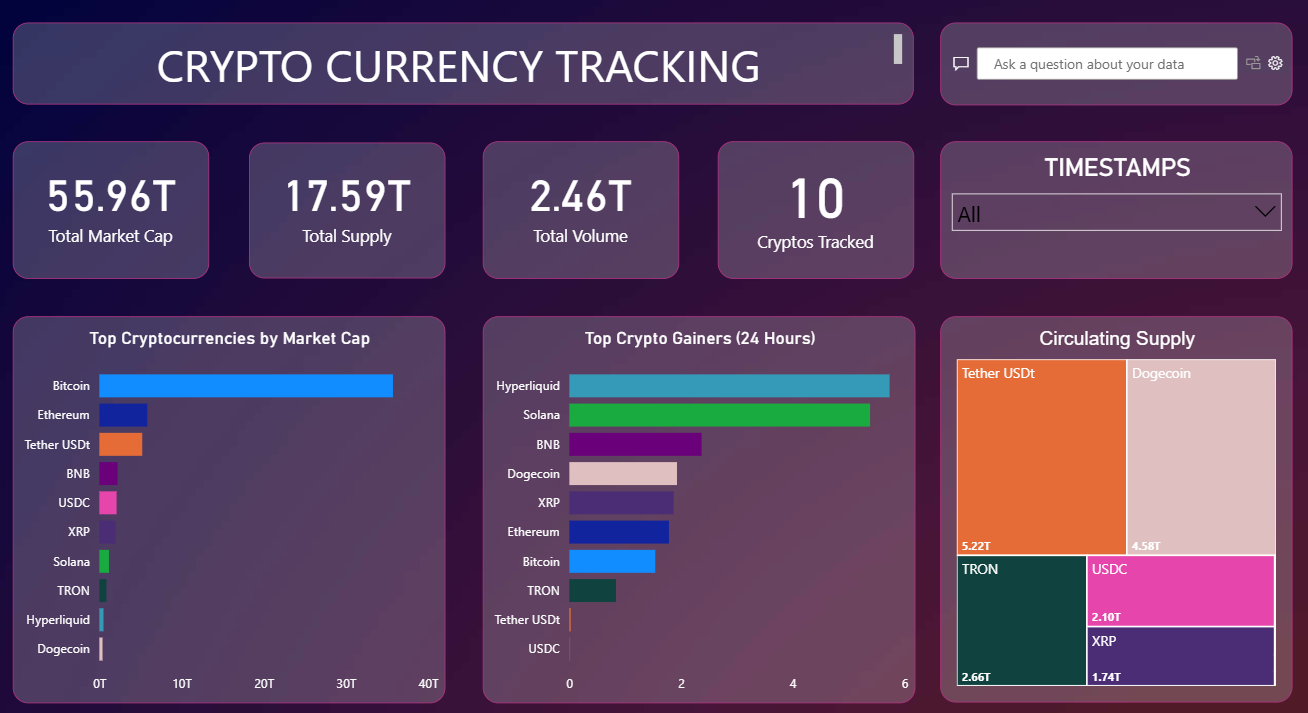

The page's visual inventory and layout, read from the dashboard file:
{"tool":"powerbi","page":{"name":"Page 1","canvas":[1280,720],"ordinal":0},"visuals":[{"type":"textbox","box":[23.3,31.4,870,79.6],"z":0},{"type":"card","fields":{"Values":["crypto_tracking.Total Market Cap"]},"box":[22.9,146.2,189.4,132.7],"z":1000},{"type":"card","fields":{"Values":["crypto_tracking.Cryptos Tracked"]},"box":[703.4,146.2,189.4,132.7],"z":2000},{"type":"card","fields":{"Values":["Sum(crypto_tracking.total_supply)"]},"box":[250.9,147.4,189.4,131.5],"z":3000},{"type":"card","fields":{"Values":["crypto_tracking.Total Volume"]},"box":[476.5,146.2,189.4,132.7],"z":4000},{"type":"barChart","title":"Top Cryptocurrencies by Market Cap","fields":{"Category":["crypto_tracking.name"],"Y":["Sum(crypto_tracking.quote.USD.market_cap)"],"Series":["crypto_tracking.name"]},"box":[22.9,314.9,417.4,374],"z":5000},{"type":"qnaVisual","box":[918.1,31.4,340.2,79.6],"z":6000},{"type":"barChart","title":"Top Crypto Gainers (24 Hours)","fields":{"Y":["Max(crypto_tracking.quote.USD.percent_change_24h)"],"Series":["crypto_tracking.name"],"Category":["crypto_tracking.name"]},"box":[476.5,314.9,417.4,374],"z":7000},{"type":"treemap","title":"Circulating Supply","fields":{"Group":["crypto_tracking.name"],"Values":["Sum(crypto_tracking.circulating_supply)"]},"box":[918.1,314.9,340.2,372.8],"z":8000},{"type":"slicer","title":"TIMESTAMPS","fields":{"Values":["crypto_tracking.Timestamp"]},"box":[918.1,146,340.2,132.7],"z":9000}]}

Visuals, with their boxes on the page's 1280x720 design canvas (x1, y1, x2, y2). These are canvas units, not pixel positions in the 1308x713 screenshot, which may show the page scaled, cropped or inside an application window:
textbox: x1=23 y1=31 x2=893 y2=111
card - crypto_tracking.Total Market Cap: x1=23 y1=146 x2=212 y2=279
card - crypto_tracking.Cryptos Tracked: x1=703 y1=146 x2=893 y2=279
card - Sum(crypto_tracking.total_supply): x1=251 y1=147 x2=440 y2=279
card - crypto_tracking.Total Volume: x1=476 y1=146 x2=666 y2=279
"Top Cryptocurrencies by Market Cap" barChart: x1=23 y1=315 x2=440 y2=689
qnaVisual: x1=918 y1=31 x2=1258 y2=111
"Top Crypto Gainers (24 Hours)" barChart: x1=476 y1=315 x2=894 y2=689
"Circulating Supply" treemap: x1=918 y1=315 x2=1258 y2=688
"TIMESTAMPS" slicer: x1=918 y1=146 x2=1258 y2=279
